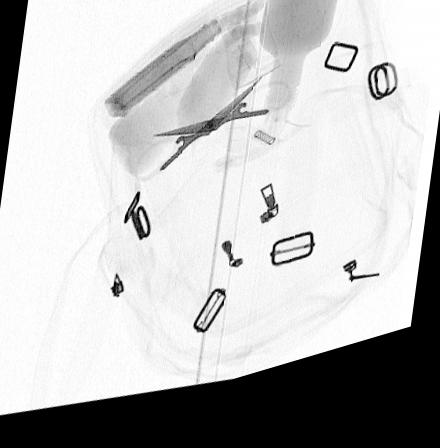Scissors: (126, 91, 293, 191)
